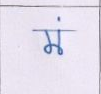anusvara: (56, 17, 62, 22)
